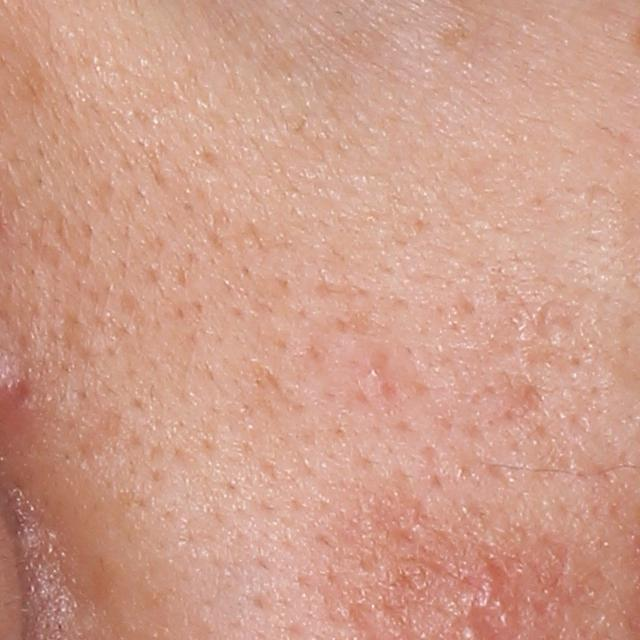melasma: (442, 23, 477, 50)
papule: (472, 561, 507, 606)
